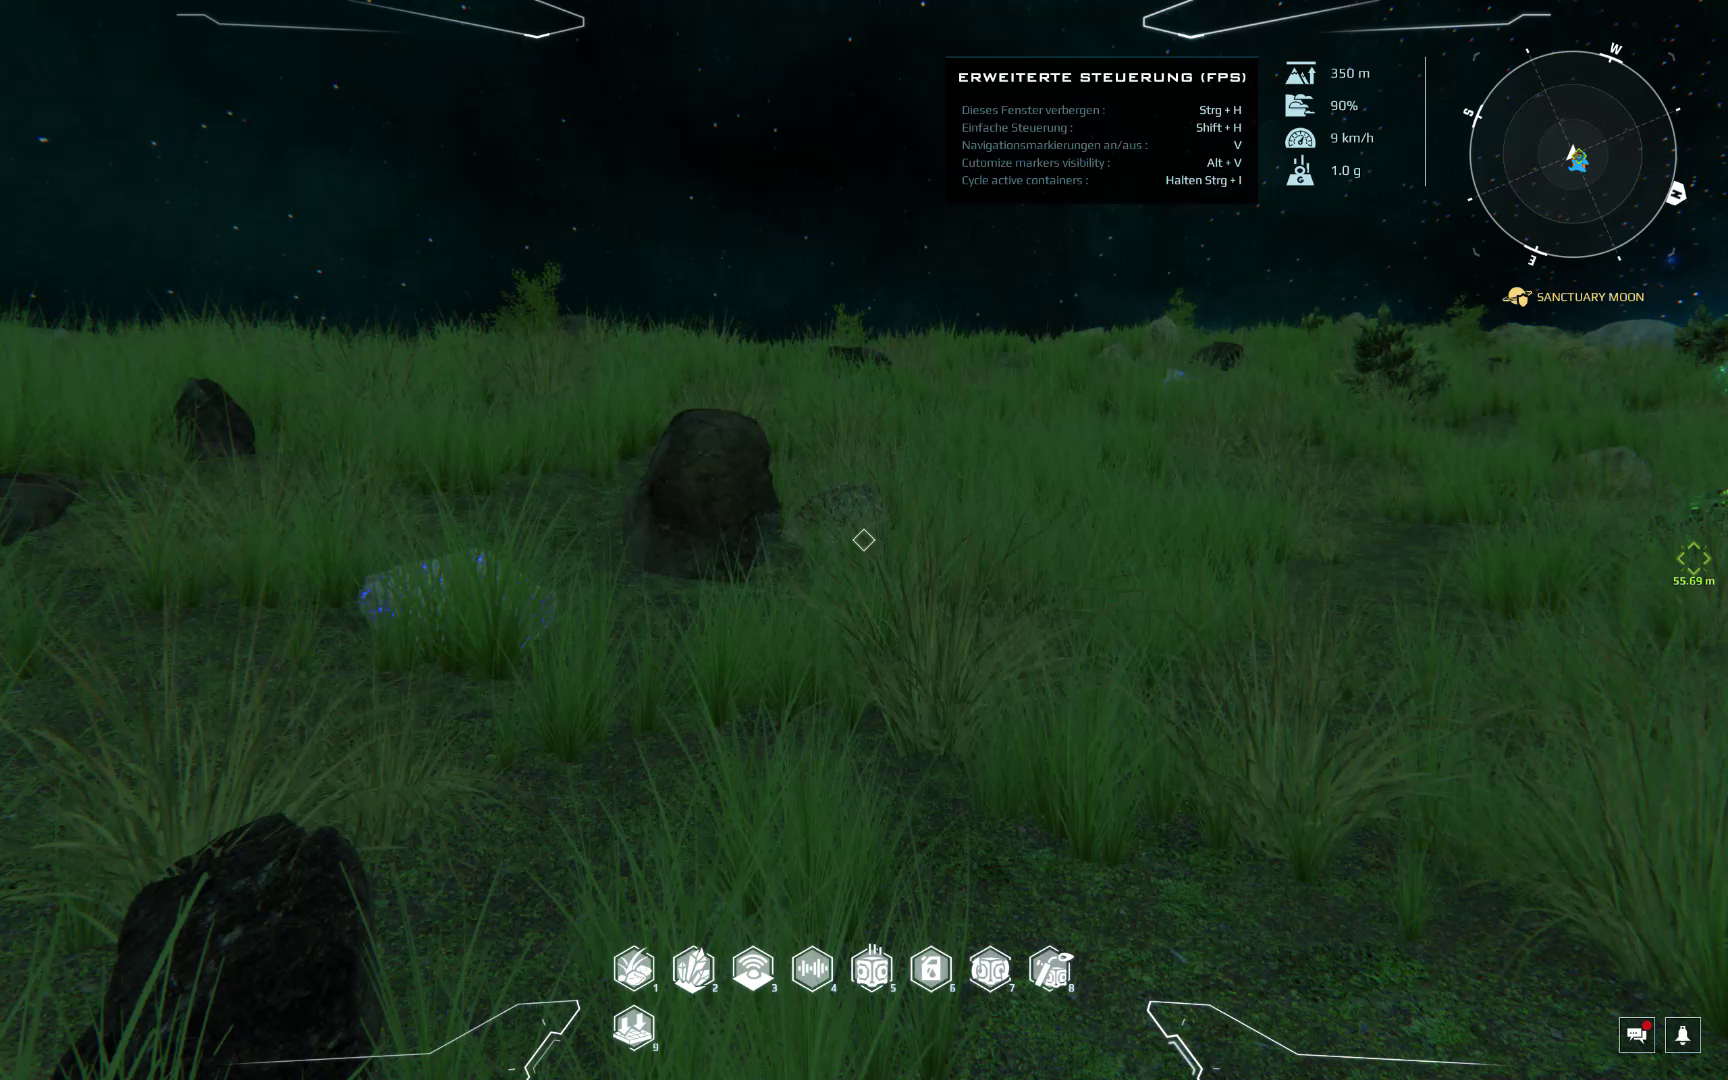Ore: (57, 812, 392, 1080), (625, 406, 776, 581), (360, 546, 560, 648), (175, 377, 261, 463), (1648, 477, 1728, 561), (2, 469, 77, 555), (826, 341, 899, 375), (1196, 338, 1247, 375), (1162, 366, 1192, 384)
